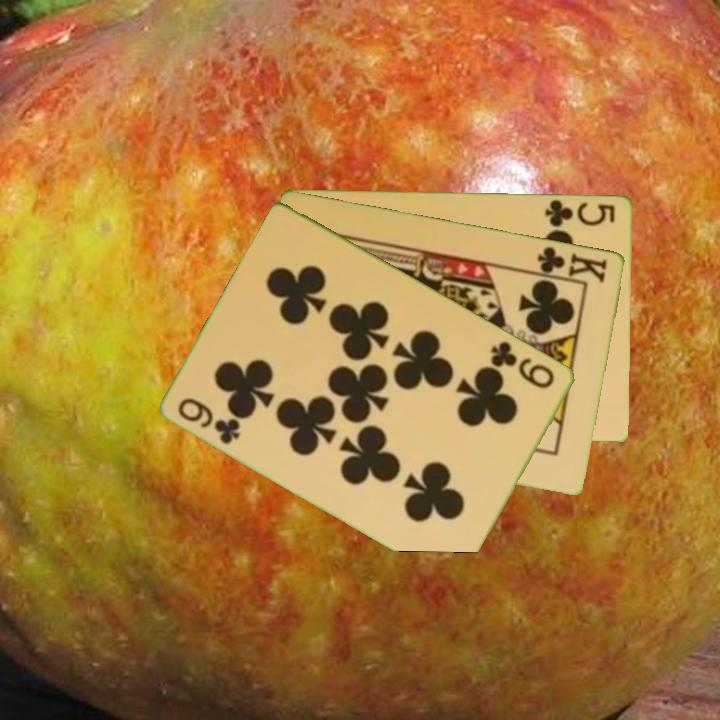5c: (542, 196, 618, 229)
9c: (487, 337, 558, 392), (174, 393, 244, 447)
Kc: (529, 242, 611, 285)
